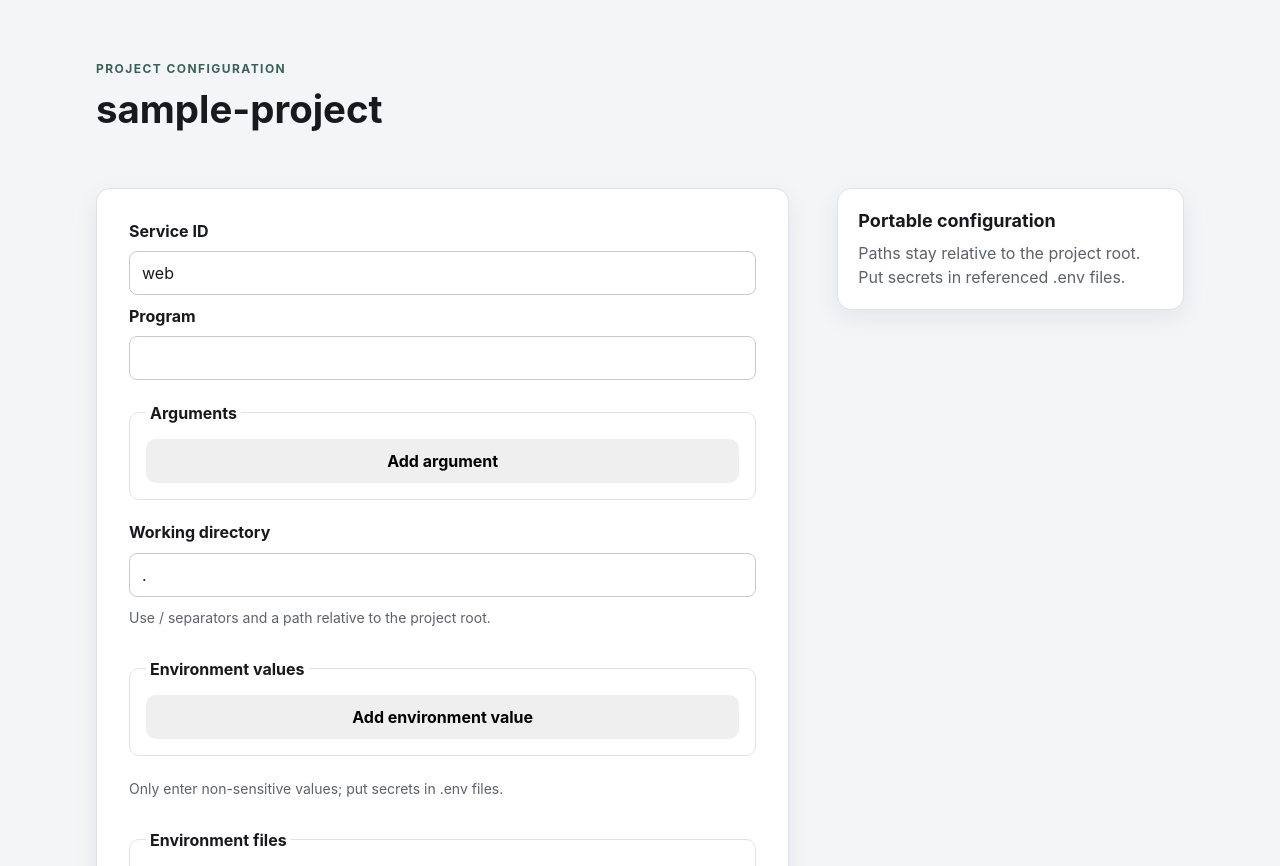
Test: renders one page alert and a described field error, then focuses its control
Type "pnpm" into the field labelled "Program" at [443, 358], box [129,336,756,380]
(page scrolled)
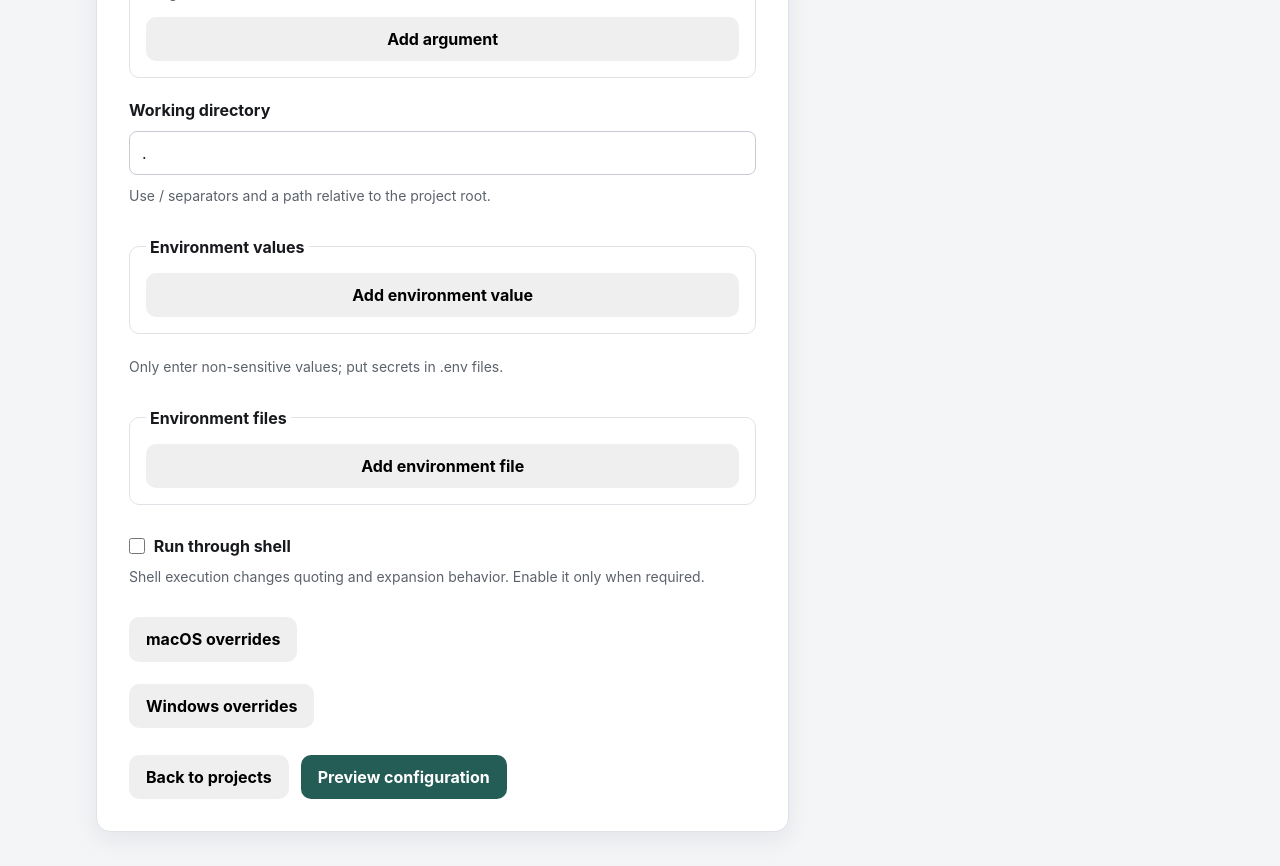
Click the button "Preview configuration" at [404, 777], box [301,755,507,799]
(page scrolled)
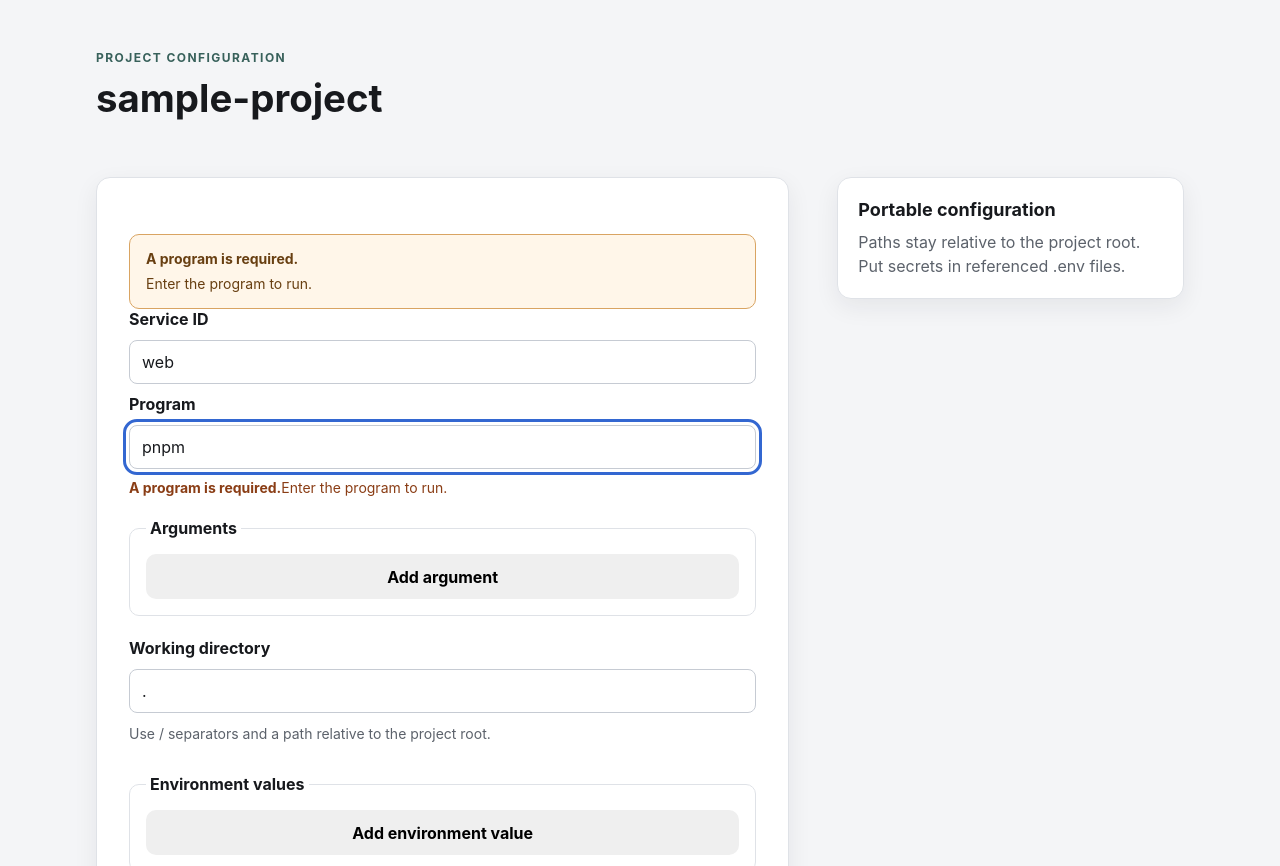
Expected: the number of messages is 1, [129,234,756,310]
Expected: the message shows "A program is required.", [146,250,298,268]
Expected: the message shows "Enter the program to run.", [146,275,312,292]
